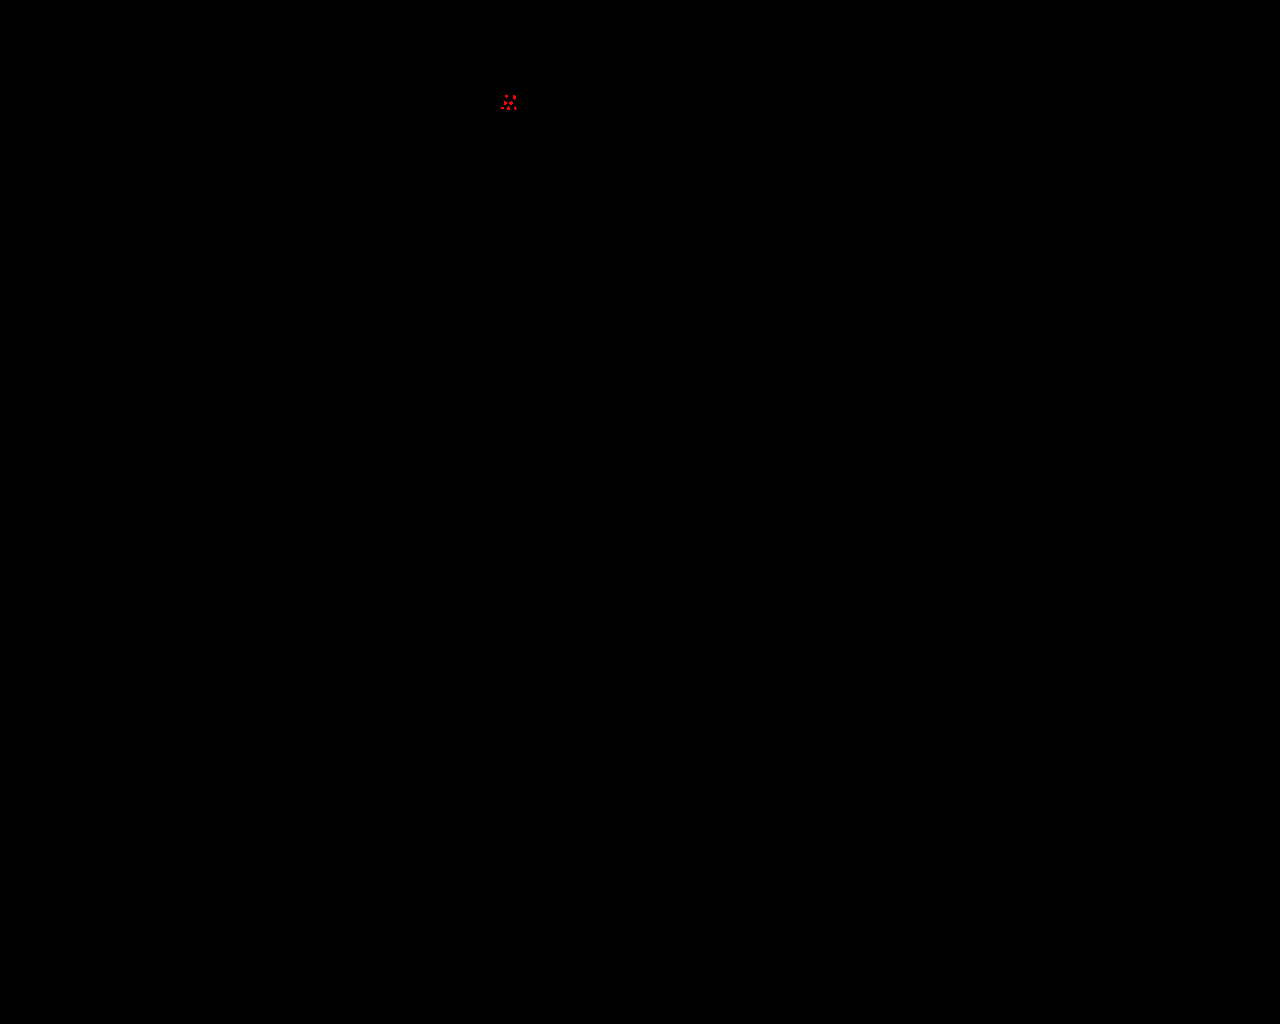Target: (513, 95, 516, 100), (509, 101, 513, 104), (507, 106, 510, 110), (505, 95, 508, 98), (504, 101, 507, 104), (514, 107, 517, 110), (501, 107, 504, 109)
